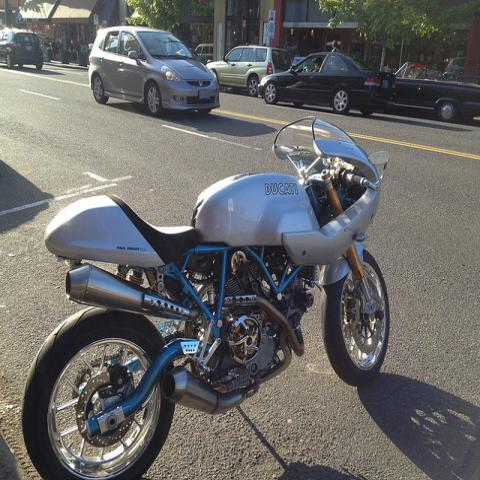car: (88, 25, 221, 116), (258, 53, 396, 117), (392, 61, 480, 125), (207, 44, 292, 98), (0, 28, 45, 72)
motorcycle: (21, 109, 397, 479)
